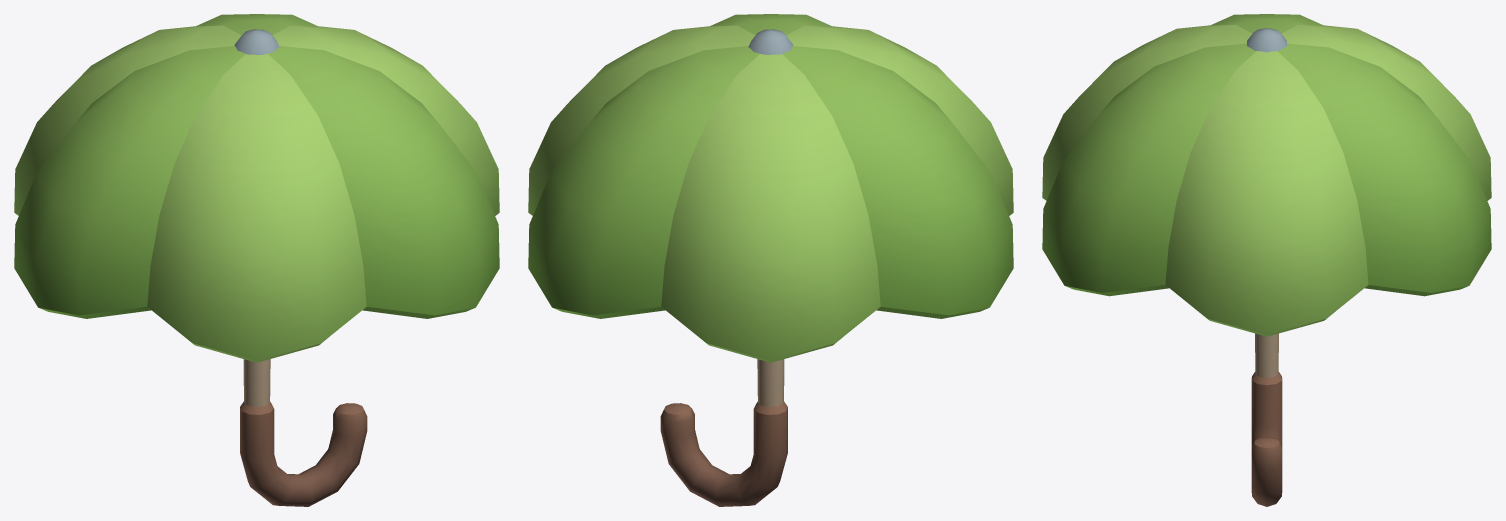
Rendered from umbrella_green.fbx.
3 views of the same model, side by side, from view 1: azimuth 30°, elevation 25°; view 2: azimuth 150°, elevation 25°; view 3: azimuth 270°, elevation 25° (orthographic). The views are drawn at different scales.
Parts seen in each view (by area): view 1: umbrella_green; view 2: umbrella_green; view 3: umbrella_green.
Part boxes in pixels (x1,y1,x2,y2): umbrella_green: (14, 14, 499, 506); umbrella_green: (528, 14, 1013, 506); umbrella_green: (1042, 14, 1491, 506).
Size of the model in its own units: 177 by 186 by 168.
